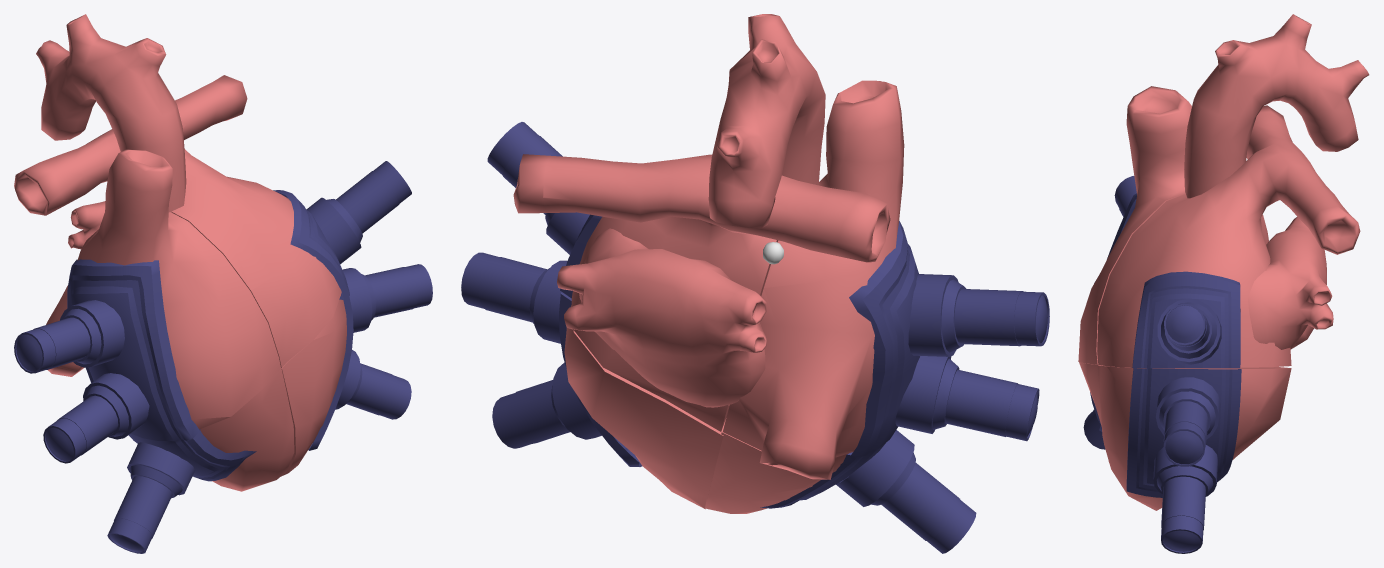
Rendered from corazon con bolas.fbx.
The picture shows the model from 3 angles, left to right: view 1: azimuth 30°, elevation 25°; view 2: azimuth 150°, elevation 25°; view 3: azimuth 270°, elevation 25°; orthographic projection. The views are drawn at different scales.
Visible parts, largest first — view 1: auricula derecha, auricula izquierda, aorta, ventriculo derecha, ventriculo izquierdo, cosa fea de atras; view 2: auricula derecha, auricula izquierda, cosa fea de atras, ventriculo izquierdo, aorta, ventriculo derecha; view 3: auricula izquierda, ventriculo izquierdo, aorta, auricula derecha, cosa fea de atras, ventriculo derecha.
Part boxes in pixels (box(x1,y1,x2,y2)): auricula derecha: box(14, 149, 280, 463); auricula izquierda: box(14, 75, 411, 367); aorta: box(36, 14, 186, 212); ventriculo derecha: box(107, 368, 294, 553); ventriculo izquierdo: box(281, 264, 432, 476); cosa fea de atras: box(68, 201, 105, 249); auricula derecha: box(723, 80, 1049, 479); auricula izquierda: box(487, 122, 890, 431); cosa fea de atras: box(557, 228, 766, 407); ventriculo izquierdo: box(461, 252, 726, 509); aorta: box(708, 14, 825, 242); ventriculo derecha: box(705, 423, 976, 553); auricula izquierda: box(1097, 105, 1360, 368); ventriculo izquierdo: box(1098, 365, 1291, 553); aorta: box(1184, 14, 1369, 198); auricula derecha: box(1078, 86, 1313, 364); cosa fea de atras: box(1248, 216, 1333, 349); ventriculo derecha: box(1079, 362, 1109, 462).
Bounding box in the file's own units: 398 × 409 × 238.
